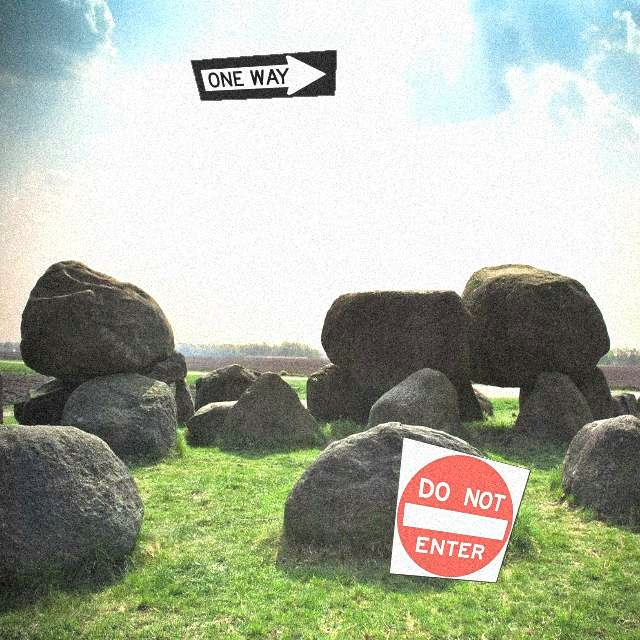DO_NOT_ENTER: (389, 436, 531, 583)
ONE_WAY_ right: (190, 49, 337, 101)
